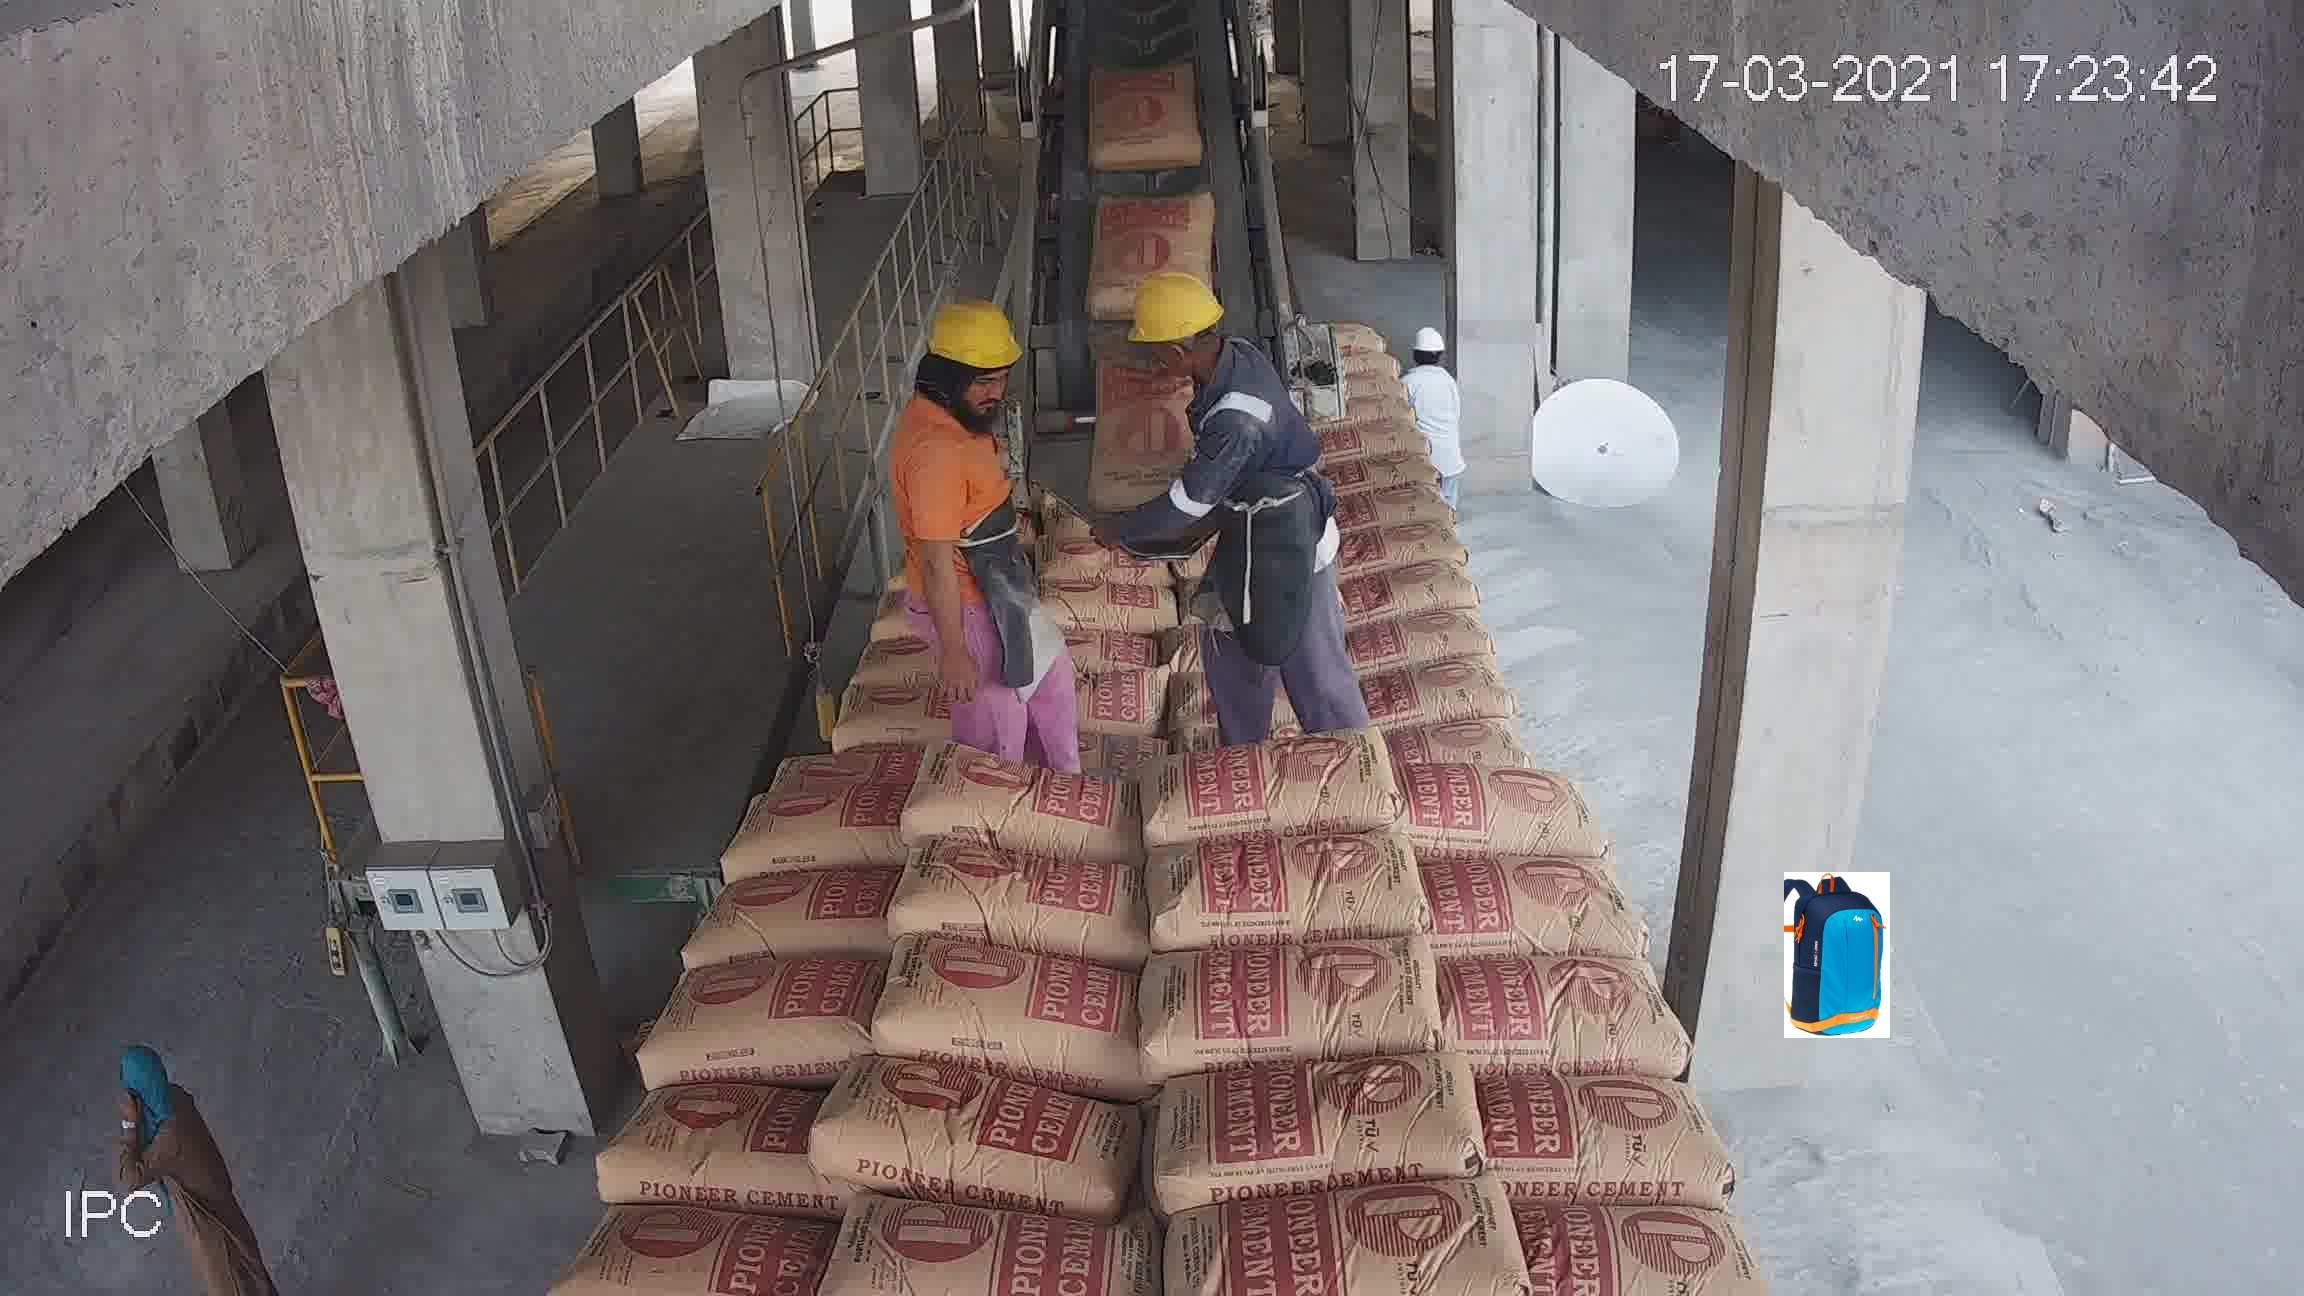bag: (1054, 25, 1261, 370), (1105, 123, 1212, 218)
bag_h: (1124, 1048, 1500, 1188), (1124, 943, 1407, 1105), (1169, 1173, 1480, 1296), (837, 1076, 1161, 1185), (1454, 1078, 1704, 1212), (1435, 953, 1681, 1086), (627, 961, 870, 1090), (581, 1078, 821, 1206), (570, 1196, 853, 1296), (810, 1215, 1166, 1294), (1165, 829, 1407, 934), (1408, 832, 1630, 945), (1158, 728, 1396, 831), (1518, 1201, 1774, 1296), (695, 864, 900, 978), (1150, 671, 1388, 769), (896, 968, 1146, 1060), (896, 842, 1122, 943), (711, 775, 915, 885), (1369, 767, 1608, 858), (1160, 585, 1385, 673), (1356, 688, 1595, 769), (1147, 521, 1355, 612), (900, 772, 1128, 855), (934, 688, 1157, 756), (786, 641, 961, 725), (1389, 612, 1551, 699), (961, 497, 1147, 570), (767, 709, 927, 793), (957, 612, 1152, 680), (828, 516, 975, 597), (1135, 491, 1328, 546), (828, 590, 968, 658), (994, 554, 1157, 611), (1364, 567, 1519, 622), (1348, 527, 1506, 576), (1032, 418, 1173, 464), (1063, 457, 1184, 495), (1067, 400, 1157, 443)
